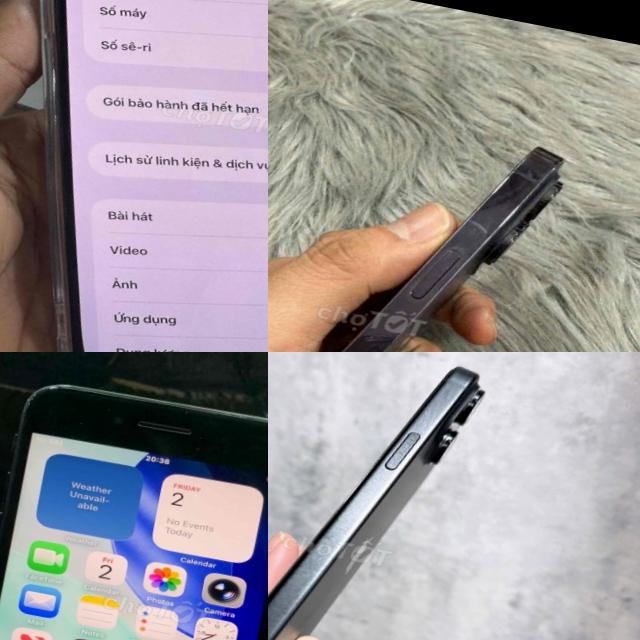gen_14: (0, 0, 268, 352), (322, 148, 563, 352)
gen_15: (268, 352, 523, 640)
gen_7_8: (0, 365, 268, 640)
